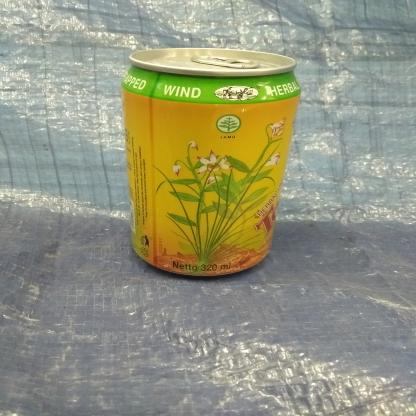bottle: (116, 44, 305, 282)
